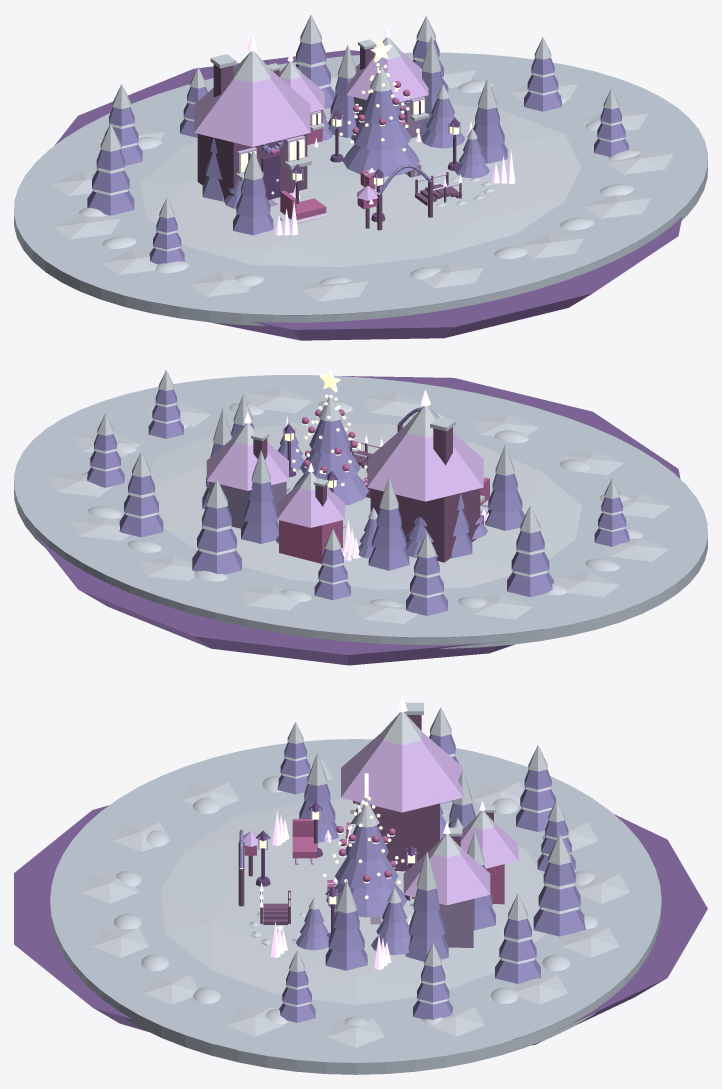
File: forest-lit.glb
3 views of the same model, one above another, from view 1: azimuth 30°, elevation 25°; view 2: azimuth 150°, elevation 25°; view 3: azimuth 270°, elevation 25° (orthographic). The views are drawn at different scales.
Parts seen in each view (by area): view 1: Continuous snow surface, Snow plateau, Floating island terrace, Fairy cottage crystal roof (×3), Full island snow blanket, Outer winter pine (×5), Cottage walls.001, Frost forest canopy (×3), Faceted pine, Faceted pine.001, Snow edge.013, Snow edge.007 (+14 smaller); view 2: Continuous snow surface, Snow plateau, Floating island terrace, Fairy cottage crystal roof (×3), Outer winter pine (×15), Full island snow blanket, Frost forest canopy (×6), Cottage walls.001, Cottage walls, Faceted pine.001, Snow edge.013, Snow edge.007 (+18 smaller); view 3: Continuous snow surface, Snow plateau, Floating island terrace, Fairy cottage crystal roof (×3), Full island snow blanket, Outer winter pine (×8), Frost forest canopy (×4), Cottage walls.001, Faceted pine.001, Cottage walls.002, Faceted pine, Snow edge.013 (+14 smaller).
Part boxes in pixels (bbox=[...]): Continuous snow surface: bbox=[14, 52, 707, 314]; Snow plateau: bbox=[140, 104, 580, 267]; Floating island terrace: bbox=[54, 50, 683, 340]; Fairy cottage crystal roof (×3): bbox=[194, 51, 428, 146]; Full island snow blanket: bbox=[14, 160, 707, 325]; Outer winter pine (×5): bbox=[87, 42, 561, 215]; Cottage walls.001: bbox=[197, 134, 307, 199]; Frost forest canopy (×3): bbox=[233, 123, 504, 235]; Faceted pine: bbox=[342, 144, 419, 176]; Faceted pine.001: bbox=[351, 120, 411, 150]; Snow edge.013: bbox=[584, 195, 650, 218]; Snow edge.007: bbox=[53, 215, 119, 238]; Continuous snow surface: bbox=[14, 375, 707, 637]; Snow plateau: bbox=[150, 423, 581, 589]; Floating island terrace: bbox=[27, 375, 680, 665]; Fairy cottage crystal roof (×3): bbox=[206, 425, 483, 527]; Outer winter pine (×15): bbox=[87, 420, 629, 615]; Full island snow blanket: bbox=[14, 482, 707, 648]; Frost forest canopy (×6): bbox=[241, 490, 524, 570]; Cottage walls.001: bbox=[370, 488, 480, 562]; Cottage walls: bbox=[279, 520, 342, 563]; Faceted pine.001: bbox=[300, 449, 360, 479]; Snow edge.013: bbox=[245, 388, 312, 413]; Snow edge.007: bbox=[553, 572, 619, 597]; Continuous snow surface: bbox=[50, 739, 661, 1062]; Snow plateau: bbox=[160, 800, 545, 1005]; Floating island terrace: bbox=[14, 805, 707, 1049]; Fairy cottage crystal roof (×3): bbox=[341, 732, 518, 905]; Full island snow blanket: bbox=[50, 902, 661, 1074]; Outer winter pine (×8): bbox=[413, 789, 585, 1019]; Frost forest canopy (×4): bbox=[325, 909, 448, 970]; Cottage walls.001: bbox=[370, 803, 439, 871]; Faceted pine.001: bbox=[335, 856, 398, 889]; Cottage walls.002: bbox=[439, 899, 473, 947]; Faceted pine: bbox=[326, 883, 407, 917]; Snow edge.013: bbox=[143, 974, 198, 1004].
Size of what is drawn, in the model's own units: 4.96 by 1.86 by 4.49.
